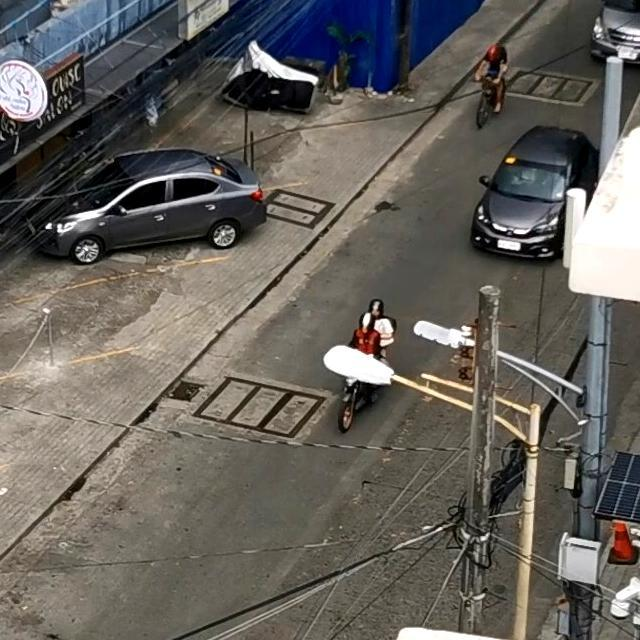Car: (28, 149, 256, 261), (470, 122, 596, 257), (594, 0, 640, 63)
